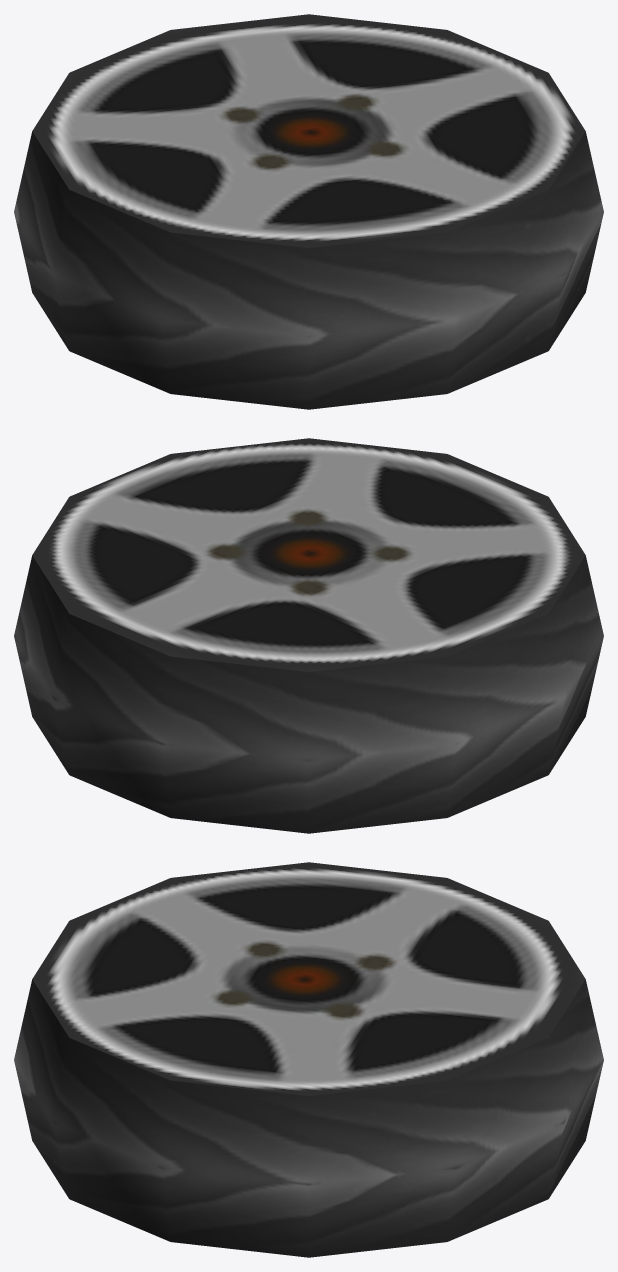
File: Wheel_Left.obj
3 views of the same model, one above another, from view 1: azimuth 30°, elevation 25°; view 2: azimuth 150°, elevation 25°; view 3: azimuth 270°, elevation 25° (orthographic).
Parts seen in each view (by area): view 1: Wheel_Left; view 2: Wheel_Left; view 3: Wheel_Left.
Part boxes in pixels (box(x1,y1,x2,y2)): Wheel_Left: box(14, 14, 603, 409); Wheel_Left: box(14, 438, 603, 833); Wheel_Left: box(14, 862, 603, 1257).
Size of the model in its own units: 0.2055 by 0.0621 by 0.2055.
Materials: 1 (1 with a texture image).
